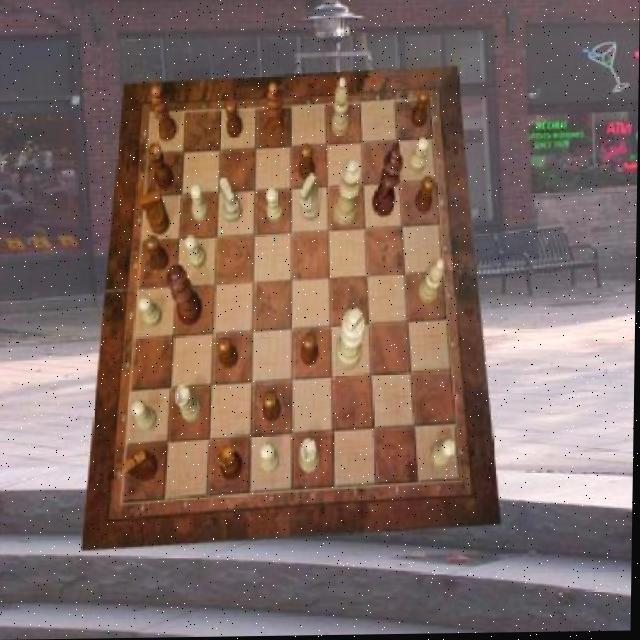bishop: (152, 86, 179, 142), (266, 83, 286, 139)
black-bishop: (373, 144, 404, 219)
black-king: (140, 190, 171, 236), (125, 449, 161, 483)
black-knight: (146, 237, 170, 272), (416, 177, 436, 214), (226, 100, 244, 139), (412, 90, 430, 129), (219, 337, 240, 370), (299, 144, 317, 182), (265, 392, 284, 425), (302, 334, 320, 367)
black-pawn: (167, 265, 204, 327)
black-queen: (149, 144, 175, 190), (221, 446, 246, 481)
black-rook: (418, 259, 445, 306), (332, 79, 350, 138)
white-bishop: (337, 308, 367, 371)
white-king: (220, 178, 244, 224), (300, 175, 321, 223)
white-knight: (134, 399, 159, 432), (186, 236, 209, 270), (139, 297, 164, 328), (190, 184, 209, 222), (431, 441, 456, 469), (409, 140, 429, 174), (267, 189, 285, 225), (262, 444, 282, 475)
white-pawn: (335, 162, 363, 228)
white-queen: (175, 384, 203, 422), (300, 439, 322, 474)
